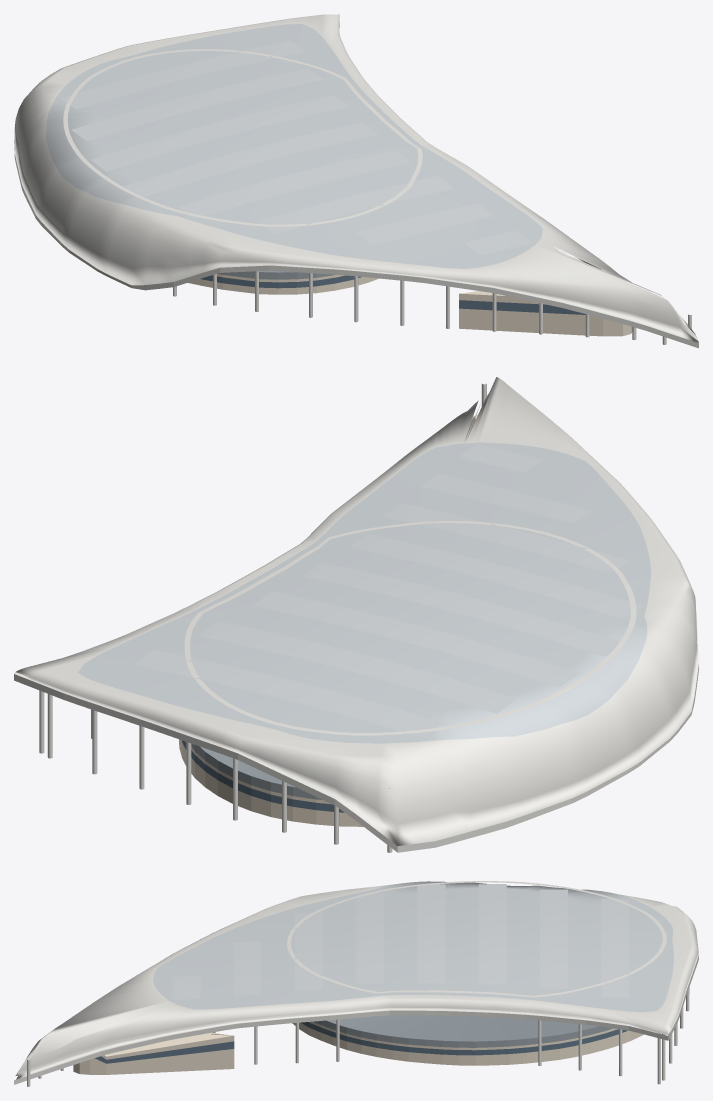
The model's file is la-sofi-stadium.glb.
The picture shows the model from 3 angles, top to bottom: view 1: azimuth 30°, elevation 25°; view 2: azimuth 150°, elevation 25°; view 3: azimuth 270°, elevation 25°; orthographic projection. The views are drawn at different scales.
Visible parts, largest first — view 1: SoFi Stadium; view 2: SoFi Stadium; view 3: SoFi Stadium.
Part boxes in pixels (x1=…): SoFi Stadium: x1=14, y1=14, x2=698, y2=348; SoFi Stadium: x1=14, y1=377, x2=698, y2=852; SoFi Stadium: x1=14, y1=881, x2=698, y2=1086.
Bounding box in the file's own units: 307 × 56.96 × 537.
